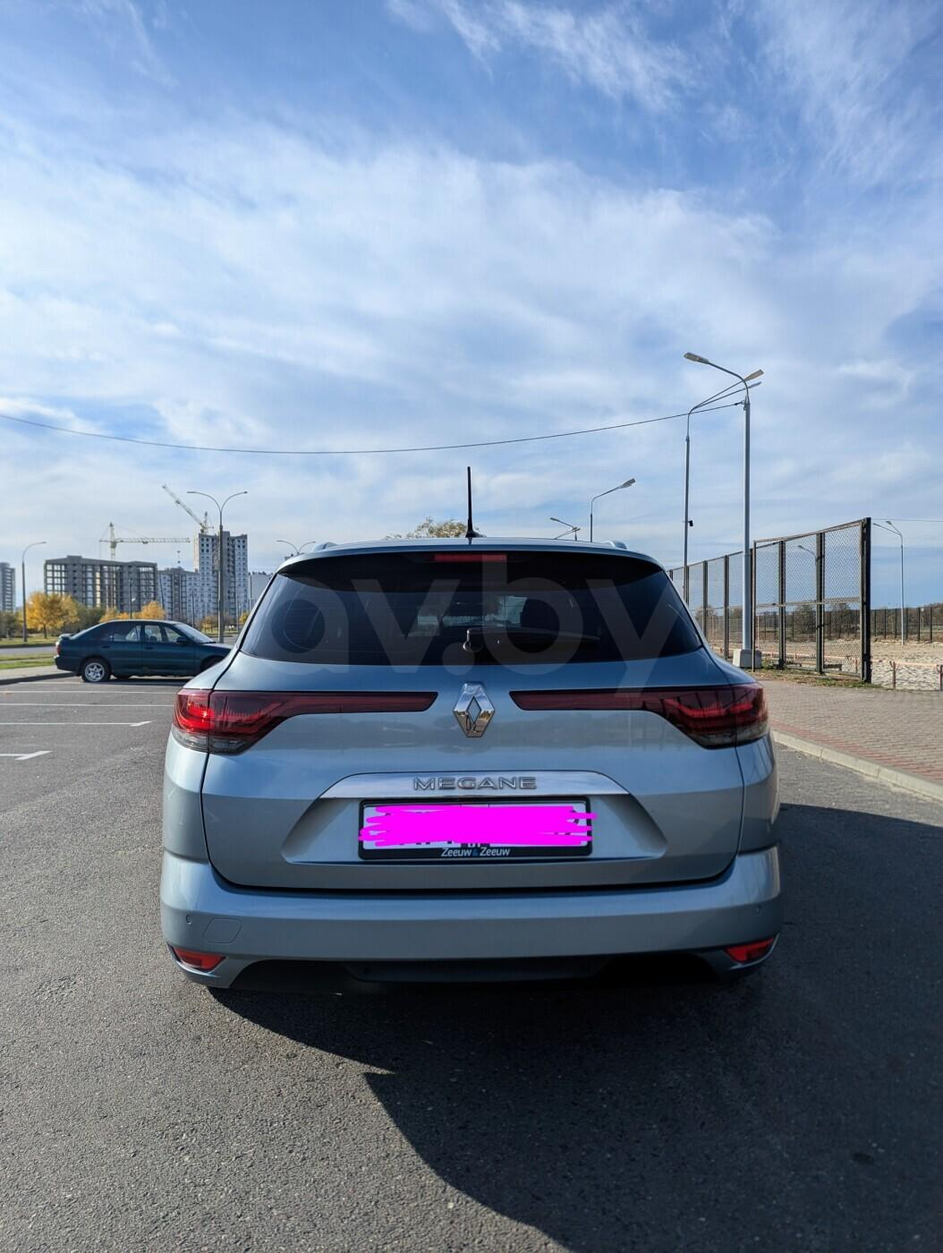Megane_2020: (147, 535, 809, 1019)
